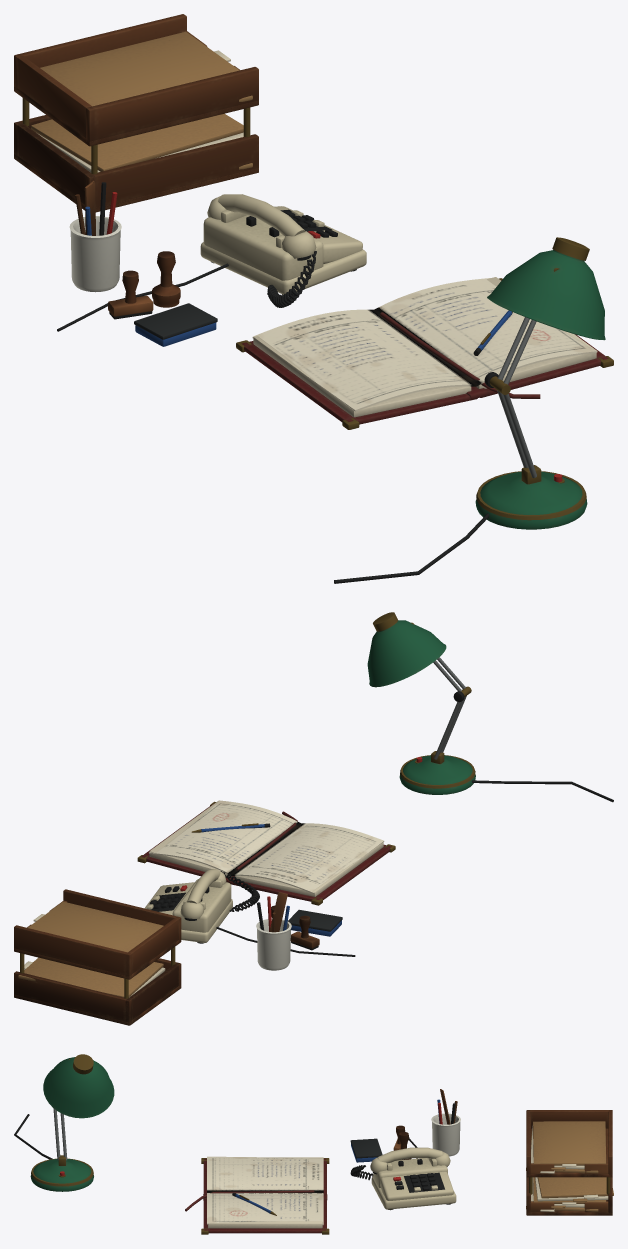
The model's file is CTCC_PROP_ReceptionWorking.fbx.
3 renders of one model, top to bottom at view 1: azimuth 30°, elevation 25°; view 2: azimuth 150°, elevation 25°; view 3: azimuth 270°, elevation 25°, orthographic. The views are drawn at different scales.
Parts seen in each view (by area): view 1: CounterDressing, DutyLedger, Handset; view 2: CounterDressing, DutyLedger, Handset; view 3: CounterDressing, DutyLedger, Handset.
Part boxes in pixels (x1,y1,x2,y2): CounterDressing: (14,14,605,583); DutyLedger: (236,277,613,429); Handset: (207,194,316,260); CounterDressing: (14,612,613,1025); DutyLedger: (137,800,395,905); Handset: (180,869,226,920); CounterDressing: (14,1054,613,1215); DutyLedger: (185,1156,329,1234); Handset: (370,1147,450,1174).
Bounding box in the file's own units: 0.8389 × 0.4508 × 1.77.
